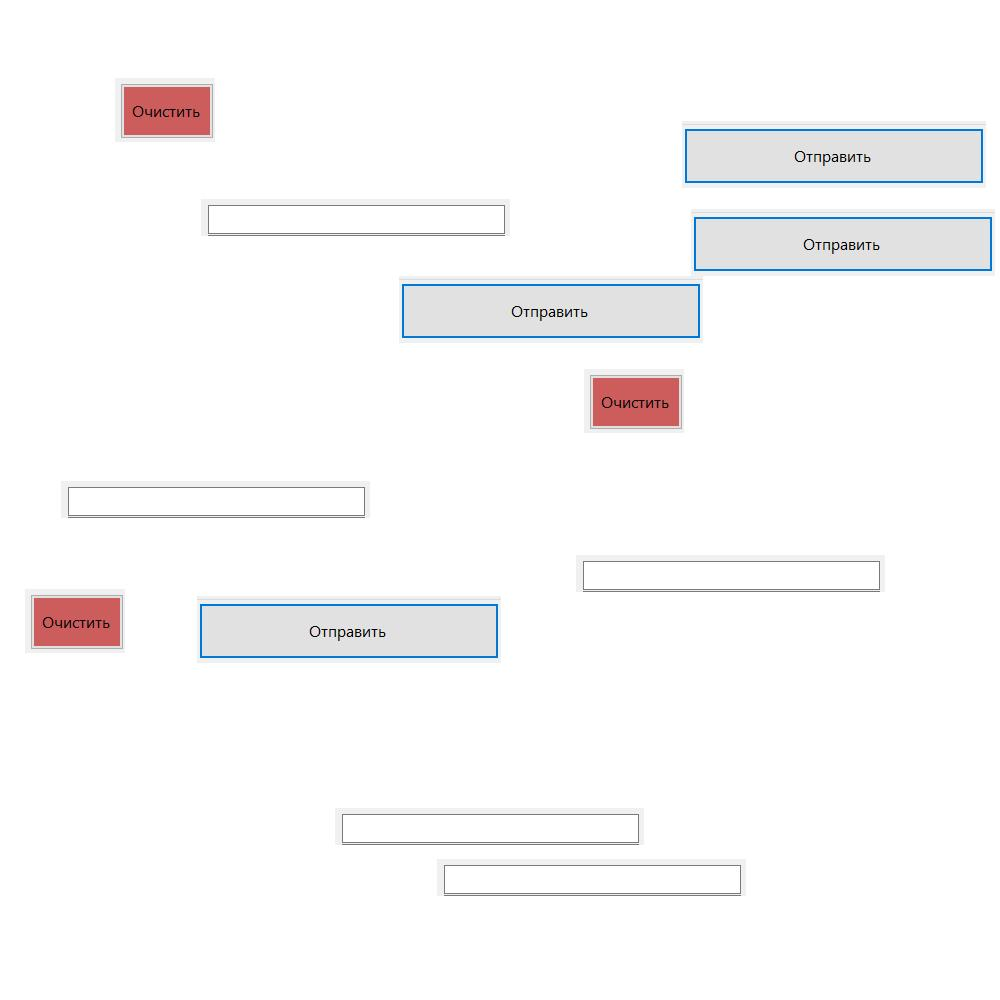Button: (197, 596, 501, 663), (399, 276, 703, 343), (682, 121, 986, 188), (691, 209, 995, 276), (584, 369, 684, 433), (25, 589, 125, 653), (115, 78, 215, 142)
EditText-: (576, 555, 885, 592), (201, 199, 510, 236), (335, 808, 644, 845), (437, 859, 746, 896), (61, 481, 370, 518)
